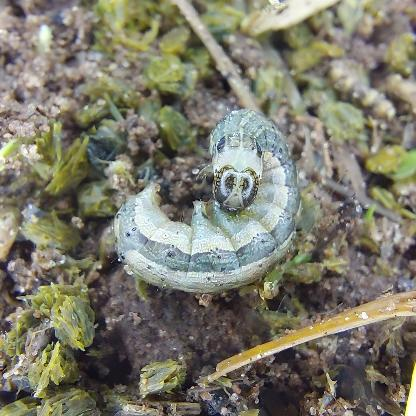Fall Armyworm Larvae: (106, 105, 308, 301)
